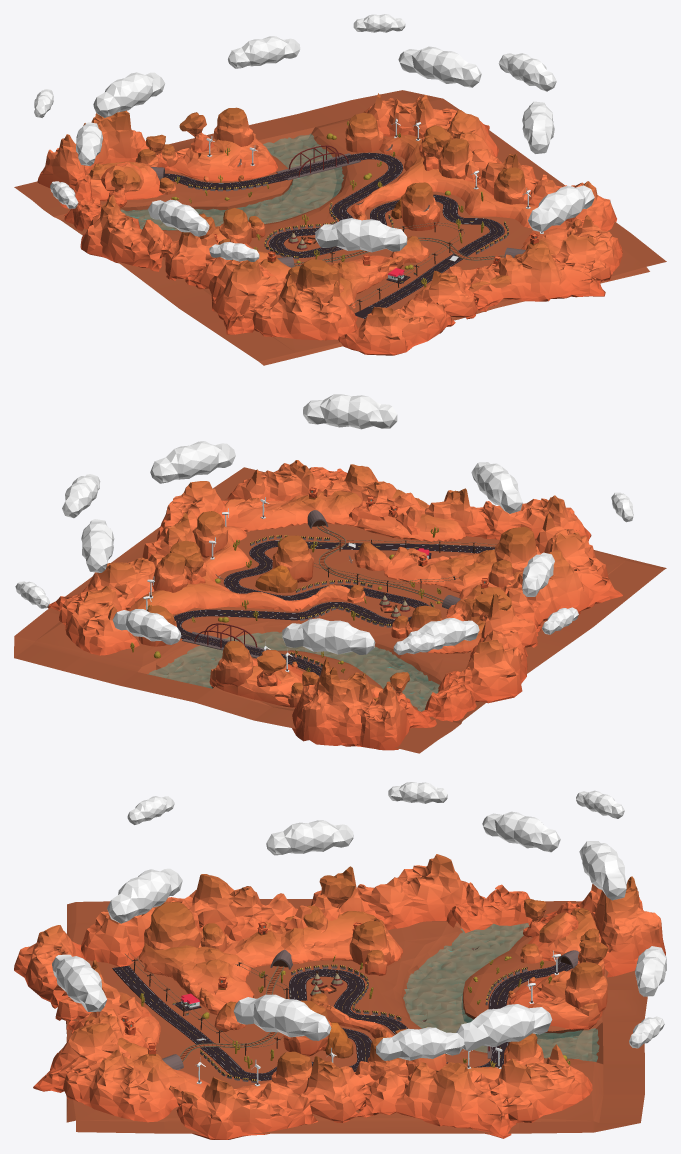
The model's file is track.glb.
3 renders of one model, top to bottom at view 1: azimuth 30°, elevation 25°; view 2: azimuth 150°, elevation 25°; view 3: azimuth 270°, elevation 25°, orthographic. The views are drawn at different scales.
Parts seen in each view (by area): view 1: mountains, terrain, track_collideable, water, cloud.012, track, cloud.006, cloud.011, cloud.007, cloud.001, cloud.002, cloud.009 (+4 smaller); view 2: mountains, terrain, track_collideable, water, track, cloud.007, cloud.011, cloud, cloud.012, cloud.001, cloud.006, cloud.008 (+5 smaller); view 3: mountains, terrain, track_collideable, water, cloud, cloud.006, track, cloud.012, cloud.009, cloud.002, cloud.007, cloud.008 (+6 smaller).
Boxes of the visible parts, box(x1,y1,x2,y2) form: mountains: box(37, 93, 622, 355); terrain: box(14, 90, 666, 365); track_collideable: box(150, 147, 525, 319); water: box(120, 134, 343, 230); cloud.012: box(315, 218, 407, 252); track: box(171, 119, 543, 307); cloud.006: box(398, 46, 481, 87); cloud.011: box(93, 72, 164, 117); cloud.007: box(528, 185, 594, 231); cloud.001: box(228, 36, 300, 68); cloud.002: box(148, 199, 209, 236); cloud.009: box(498, 53, 556, 91); mountains: box(47, 460, 622, 750); terrain: box(14, 467, 666, 753); track_collideable: box(173, 510, 494, 676); water: box(147, 631, 439, 711); track: box(130, 487, 496, 675); cloud.007: box(303, 394, 397, 429); cloud.011: box(282, 618, 375, 654); cloud: box(150, 441, 235, 483); cloud.012: box(471, 462, 522, 513); cloud.001: box(112, 609, 181, 644); cloud.006: box(81, 519, 114, 572); cloud.008: box(408, 618, 479, 649); mountains: box(14, 854, 665, 1139); terrain: box(66, 899, 647, 1133); track_collideable: box(112, 949, 578, 1083); water: box(403, 923, 599, 1061); cloud: box(233, 994, 331, 1040); cloud.006: box(456, 1004, 552, 1050); track: box(121, 922, 570, 1086); cloud.012: box(107, 868, 182, 923); cloud.009: box(376, 1027, 464, 1060); cloud.002: box(266, 820, 353, 855); cloud.007: box(52, 954, 107, 1011); cloud.008: box(482, 811, 560, 852).
Bounding box in the file's own units: 315 × 68.09 × 317.
2 materials, 2 textured.
